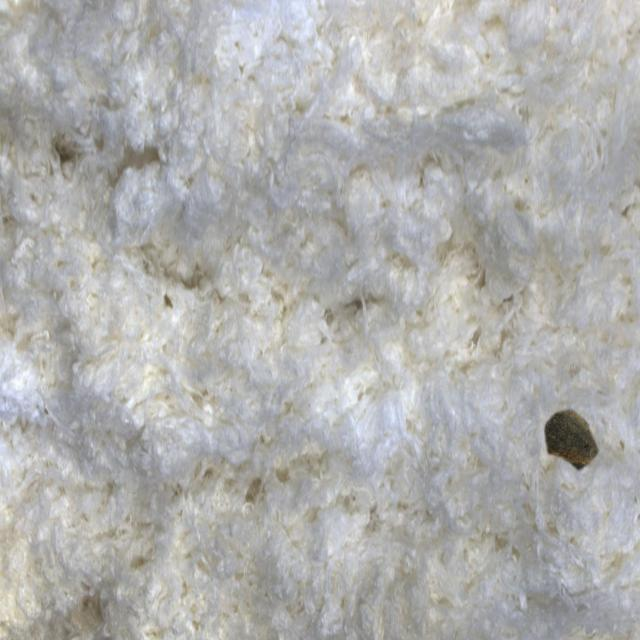dust: (530, 376, 628, 510)
